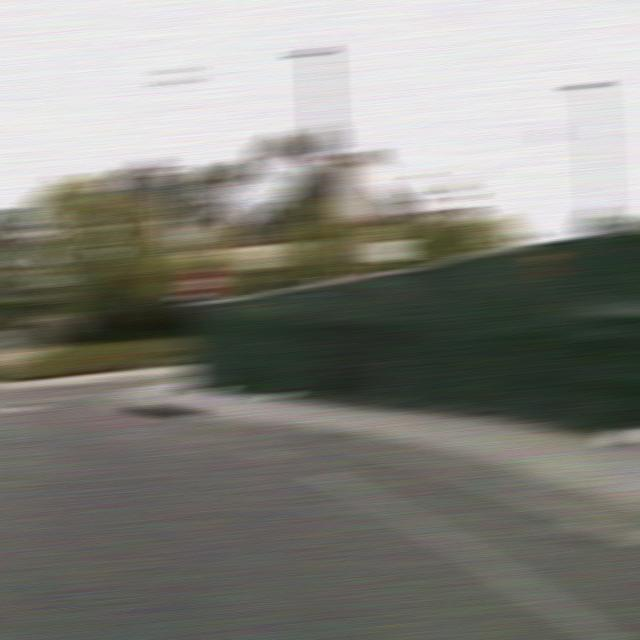stop: (184, 267, 223, 301)
